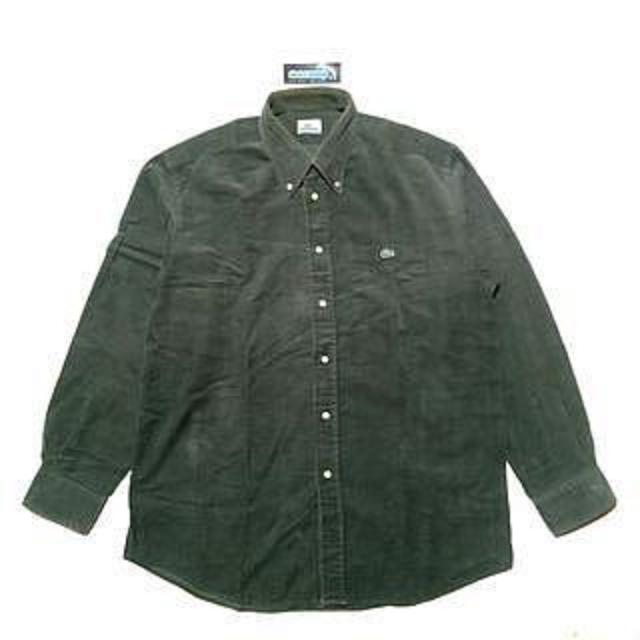SHIRT: (7, 79, 640, 618)
